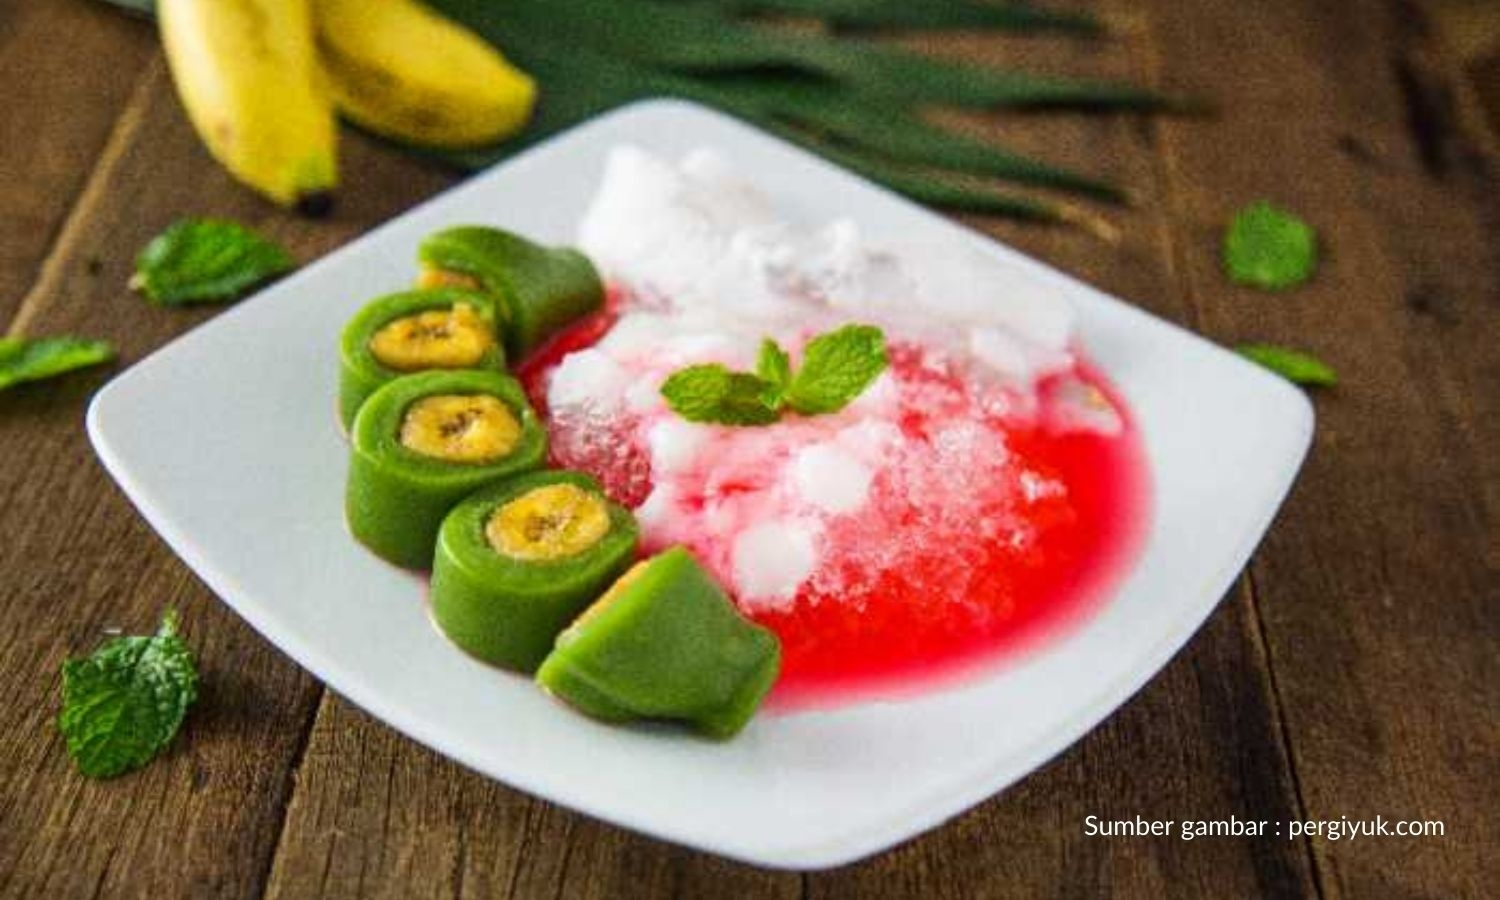pisang_ijo: (457, 472, 626, 667)
